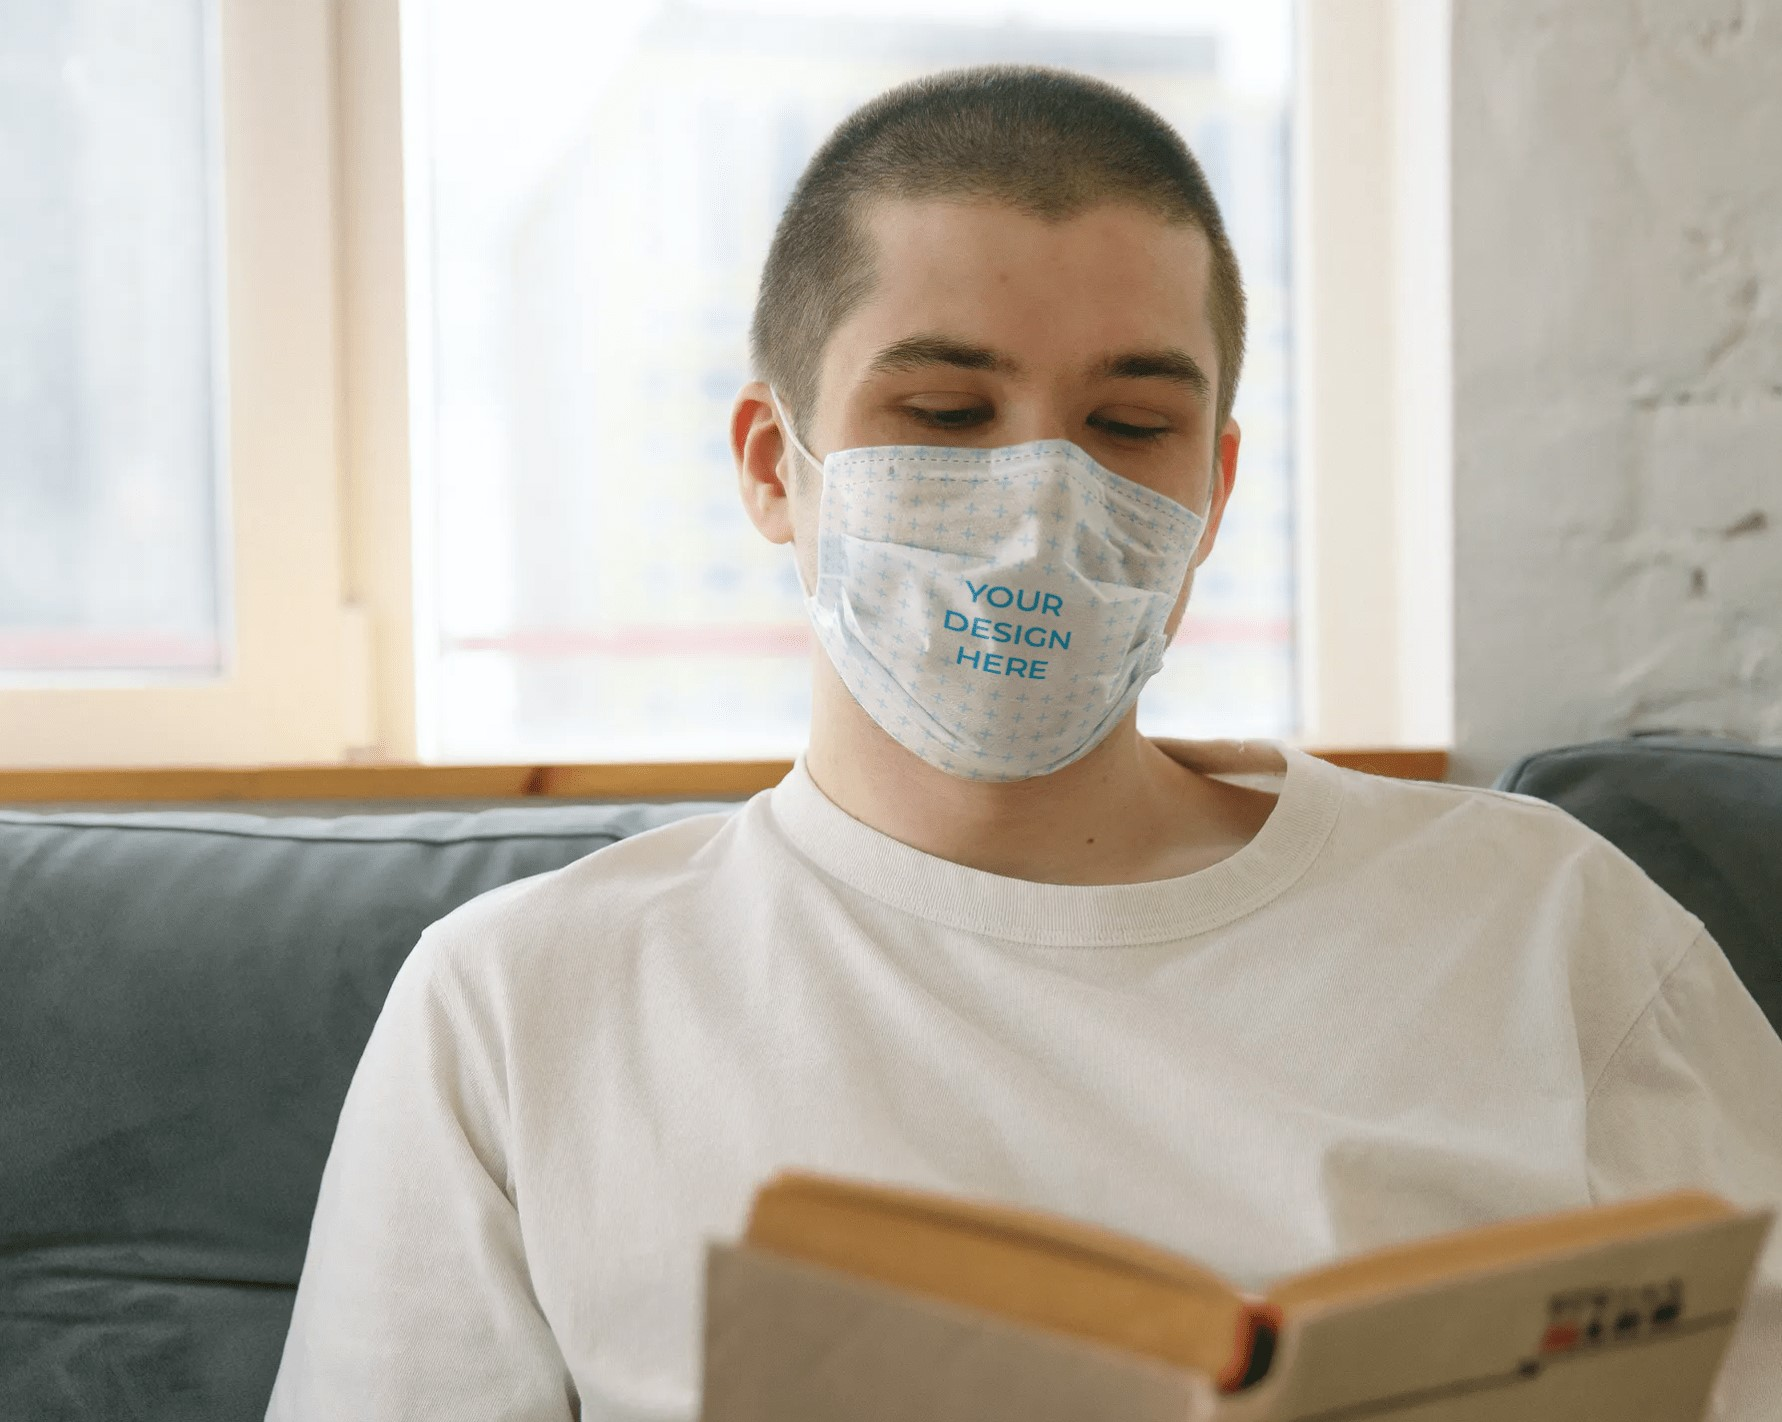face_with_mask: (717, 180, 1266, 813)
